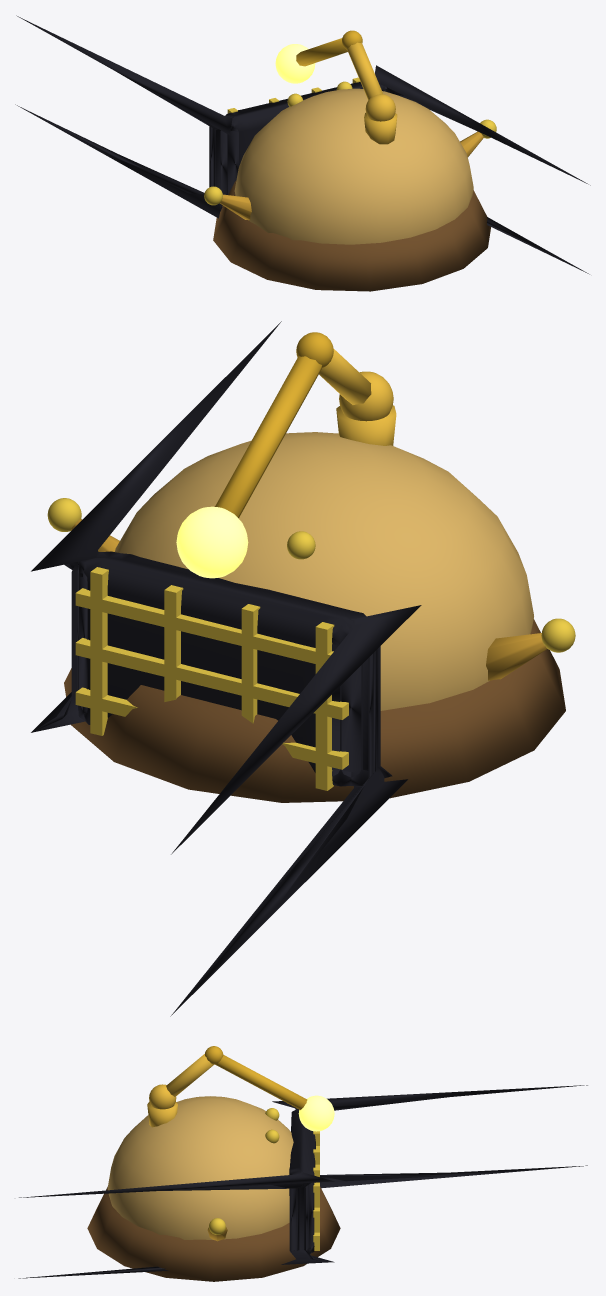
The model's file is b_robotics_facility.glb.
3 renders of one model, top to bottom at view 1: azimuth 30°, elevation 25°; view 2: azimuth 150°, elevation 25°; view 3: azimuth 270°, elevation 25°, orthographic. The views are drawn at different scales.
Visible parts, largest first — view 1: rf_dome.001, rf_bowl.001, rf_win.001, rf_hook.001, rf_arm1.001, rf_arm2.001, rf_tower.001, rf_joint.001, rf_fin-1.001; view 2: rf_dome.001, rf_win.001, rf_bowl.001, rf_arm2.001, rf_hook.001, rf_barH2.001, rf_barH1.001, rf_barV3.001, rf_barV0.001, rf_fin-1.001, rf_barV2.001, rf_barV1.001 (+7 smaller); view 3: rf_dome.001, rf_bowl.001, rf_win.001, rf_arm2.001, rf_hook.001, rf_arm1.001, rf_joint.001, rf_tower.001.
Part boxes in pixels (x1=…): rf_dome.001: x1=234, y1=88, x2=473, y2=244; rf_bowl.001: x1=213, y1=181, x2=490, y2=291; rf_win.001: x1=15, y1=15, x2=590, y2=274; rf_hook.001: x1=275, y1=44, x2=315, y2=83; rf_arm1.001: x1=347, y1=42, x2=382, y2=99; rf_arm2.001: x1=296, y1=38, x2=347, y2=66; rf_tower.001: x1=364, y1=113, x2=397, y2=144; rf_joint.001: x1=365, y1=94, x2=395, y2=121; rf_fin-1.001: x1=220, y1=194, x2=251, y2=220; rf_dome.001: x1=115, y1=432, x2=533, y2=710; rf_win.001: x1=31, y1=321, x2=421, y2=1016; rf_bowl.001: x1=64, y1=619, x2=565, y2=802; rf_arm2.001: x1=215, y1=356, x2=321, y2=518; rf_hook.001: x1=176, y1=506, x2=248, y2=578; rf_barH2.001: x1=75, y1=588, x2=333, y2=665; rf_barH1.001: x1=75, y1=638, x2=348, y2=719; rf_barV3.001: x1=90, y1=567, x2=108, y2=735; rf_barV0.001: x1=315, y1=622, x2=334, y2=790; rf_fin-1.001: x1=486, y1=633, x2=547, y2=680; rf_barV2.001: x1=164, y1=585, x2=183, y2=701; rf_barV1.001: x1=241, y1=604, x2=260, y2=723; rf_dome.001: x1=107, y1=1096, x2=293, y2=1239; rf_bowl.001: x1=87, y1=1186, x2=340, y2=1281; rf_win.001: x1=18, y1=1085, x2=587, y2=1278; rf_arm2.001: x1=215, y1=1055, x2=307, y2=1109; rf_hook.001: x1=298, y1=1095, x2=334, y2=1131; rf_arm1.001: x1=166, y1=1054, x2=213, y2=1096; rf_joint.001: x1=149, y1=1084, x2=176, y2=1109; rf_tower.001: x1=147, y1=1101, x2=177, y2=1127.
Bounding box in the file's own units: 1.77 × 1.42 × 3.38.
